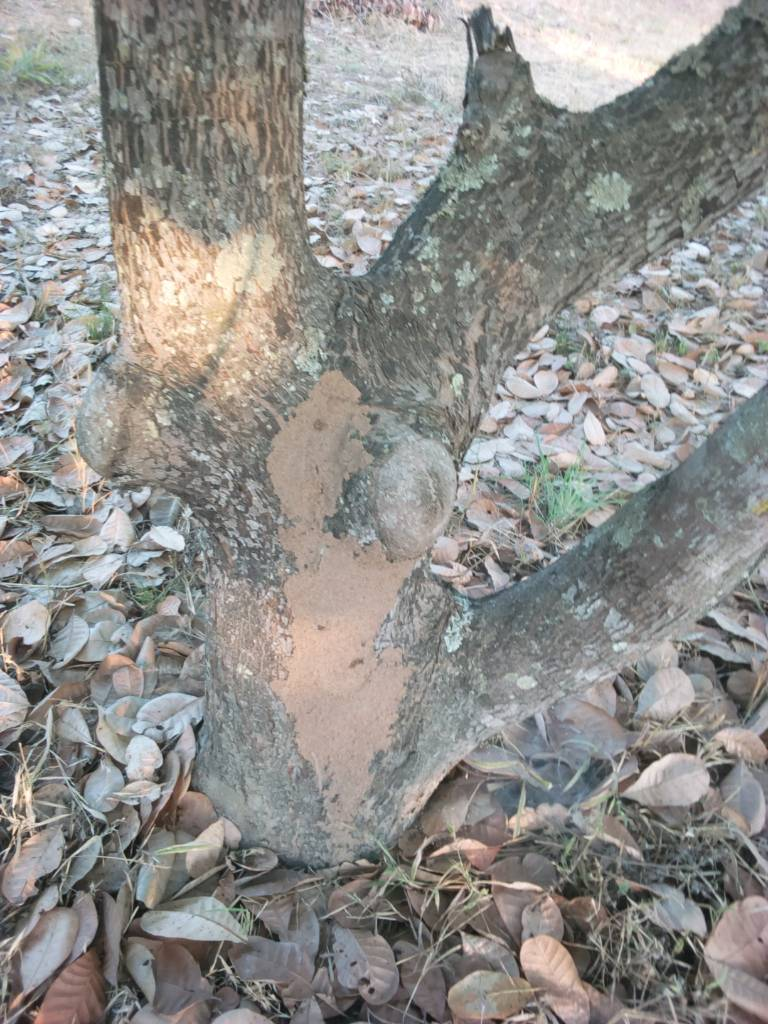Termites: (266, 375, 405, 821)
